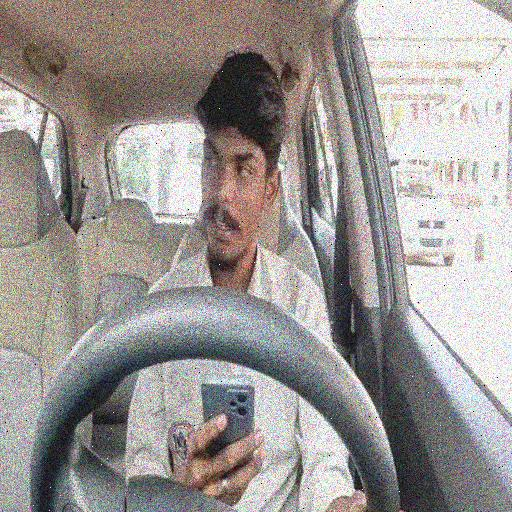Texting_on_phone: (122, 43, 378, 512)
